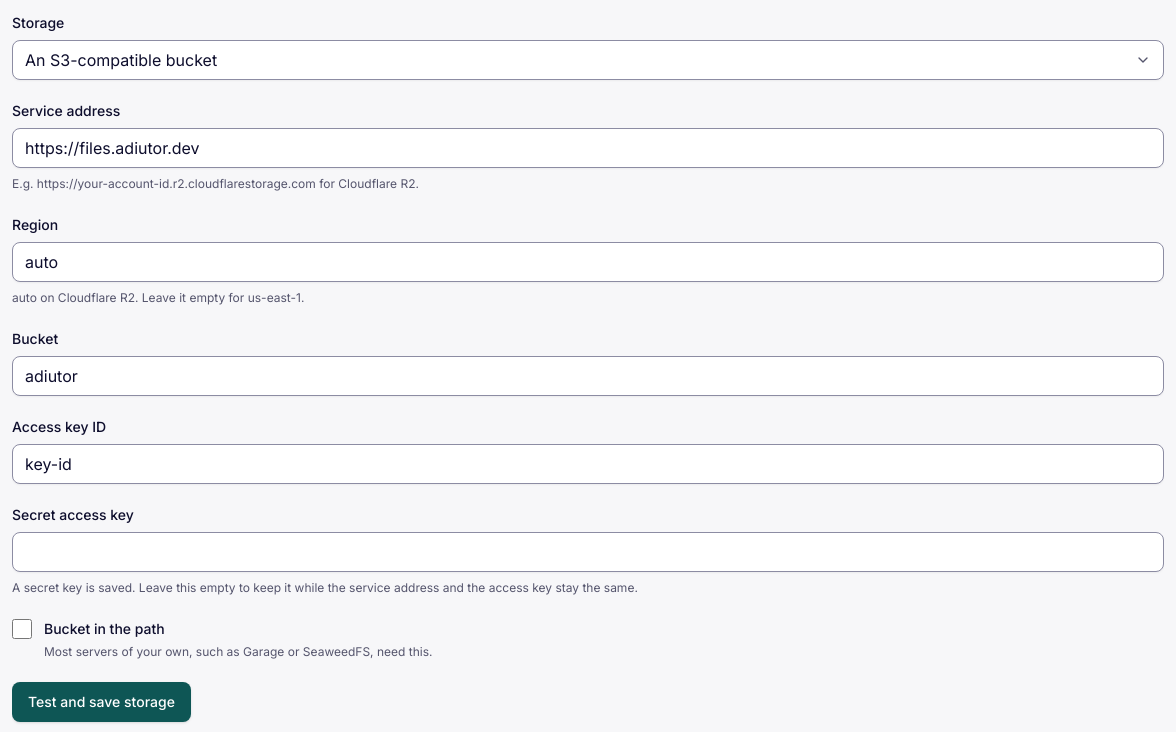
Test: StorageForm › empties a secret once it’s saved, as a saved one is never shown
In the password field labelled "Secret access key": (588, 552) [12,532,1164,572], type "a-new-secret"
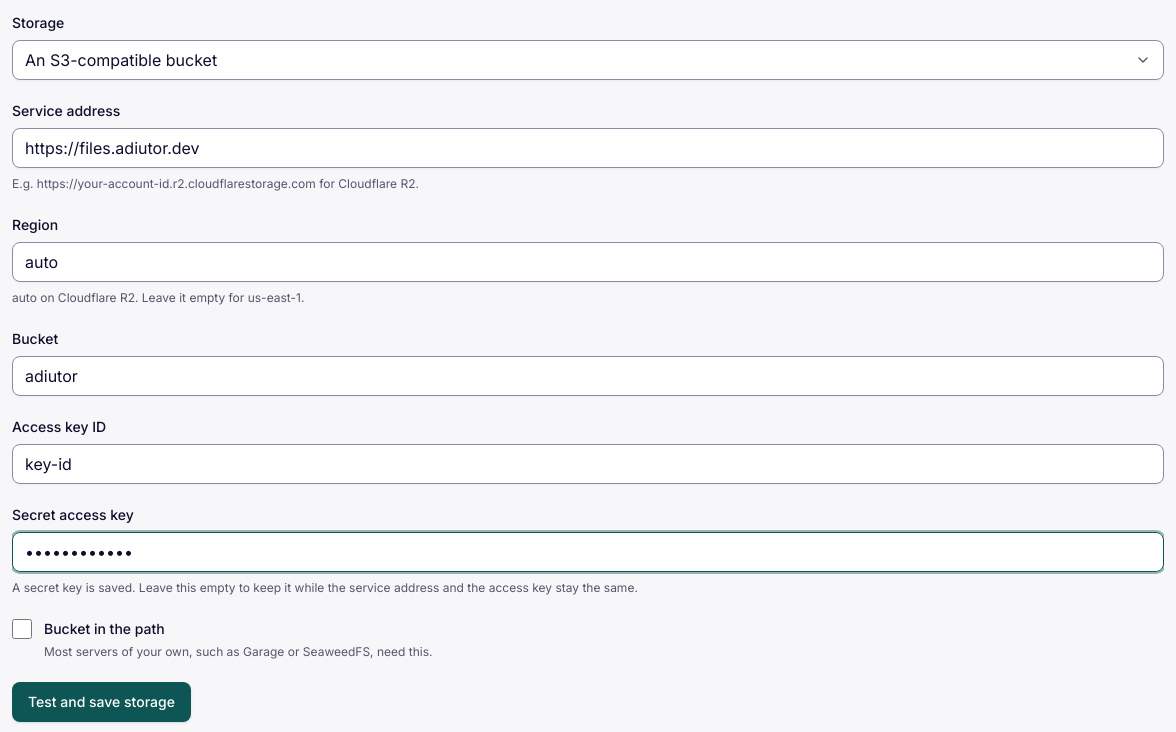
Click the button "Test and save storage": (101, 702) [12,682,191,722]
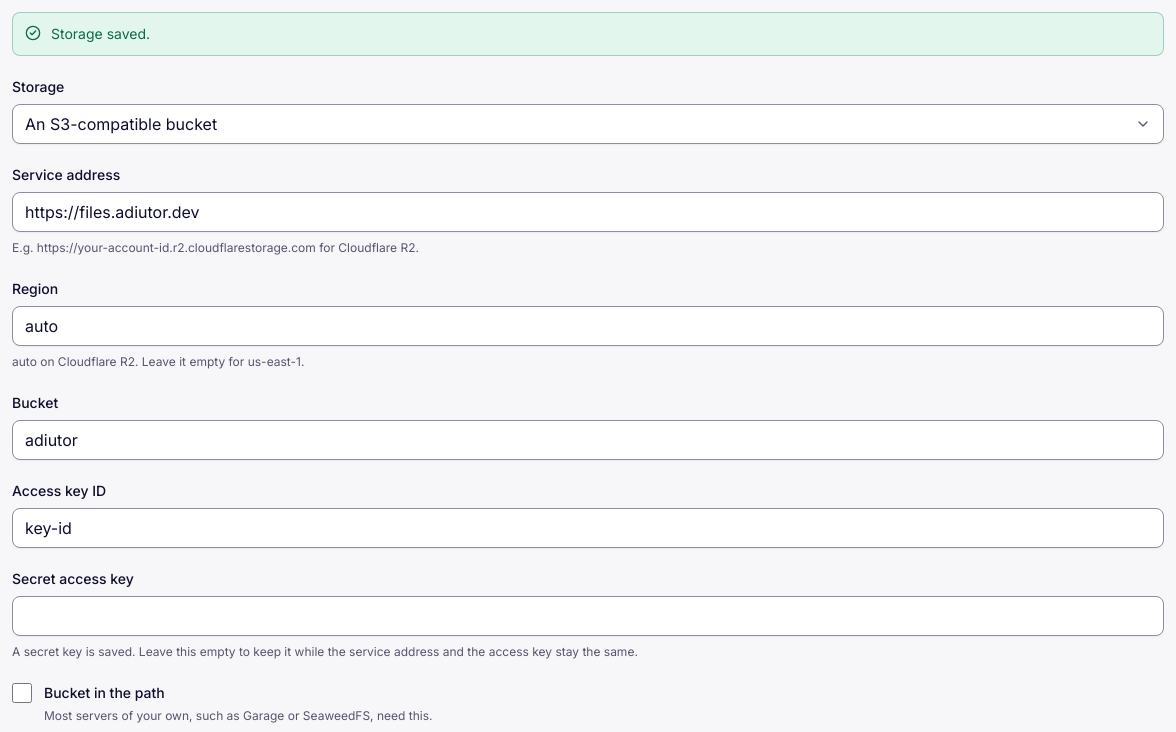
Expected: the field labelled "Bucket" holds "adiutor", [12,420,1164,460]
Expected: the text "Storage saved." is shown, [51,25,150,42]
Expected: the password field labelled "Secret access key" is empty, [12,596,1164,636]
